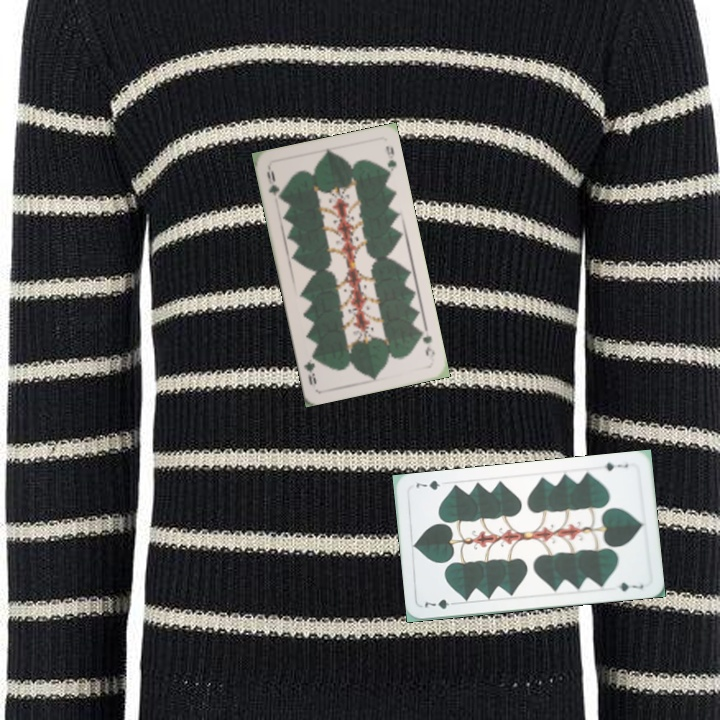G7: (420, 595, 460, 612), (601, 458, 631, 474)
G9: (416, 323, 438, 364), (262, 166, 284, 203)
